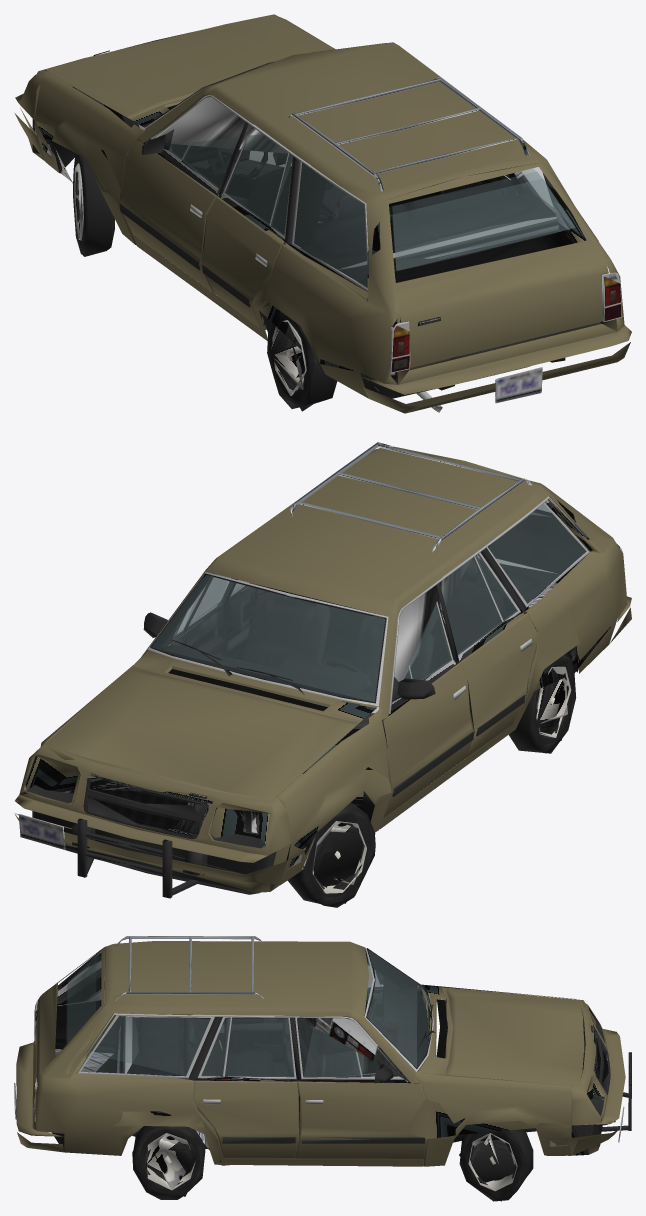
Rendered from fairheaven.glb.
3 renders of one model, top to bottom at view 1: azimuth 30°, elevation 25°; view 2: azimuth 150°, elevation 25°; view 3: azimuth 270°, elevation 25°, orthographic. The views are drawn at different scales.
Visible parts, largest first — view 1: Hull, Distance; view 2: Hull, Distance; view 3: Hull, Distance.
Boxes of the visible parts, x1,y1,x2,y2 form: Hull: (14,14,631,413); Distance: (19,14,615,411); Hull: (15,442,631,907); Distance: (15,442,621,903); Hull: (14,936,631,1201); Distance: (33,950,609,1201).
Size of the model in its own units: 1.86 by 1.48 by 4.38.
Materials: 2 (1 with a texture image).
